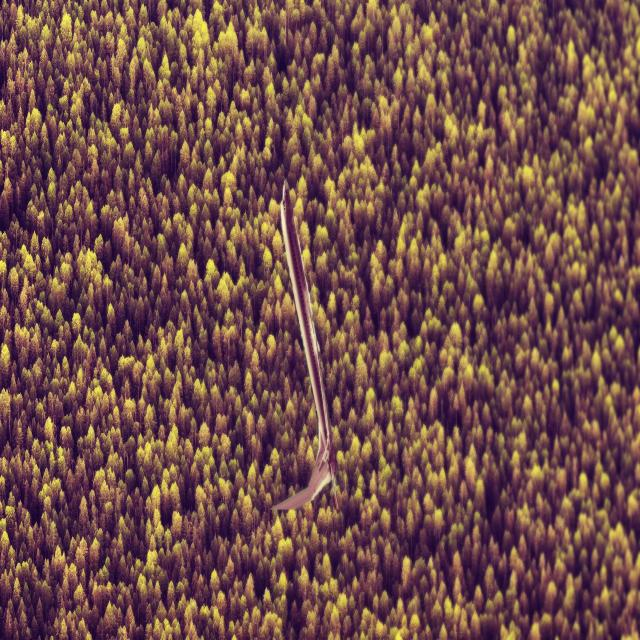airplane: (269, 178, 339, 514)
